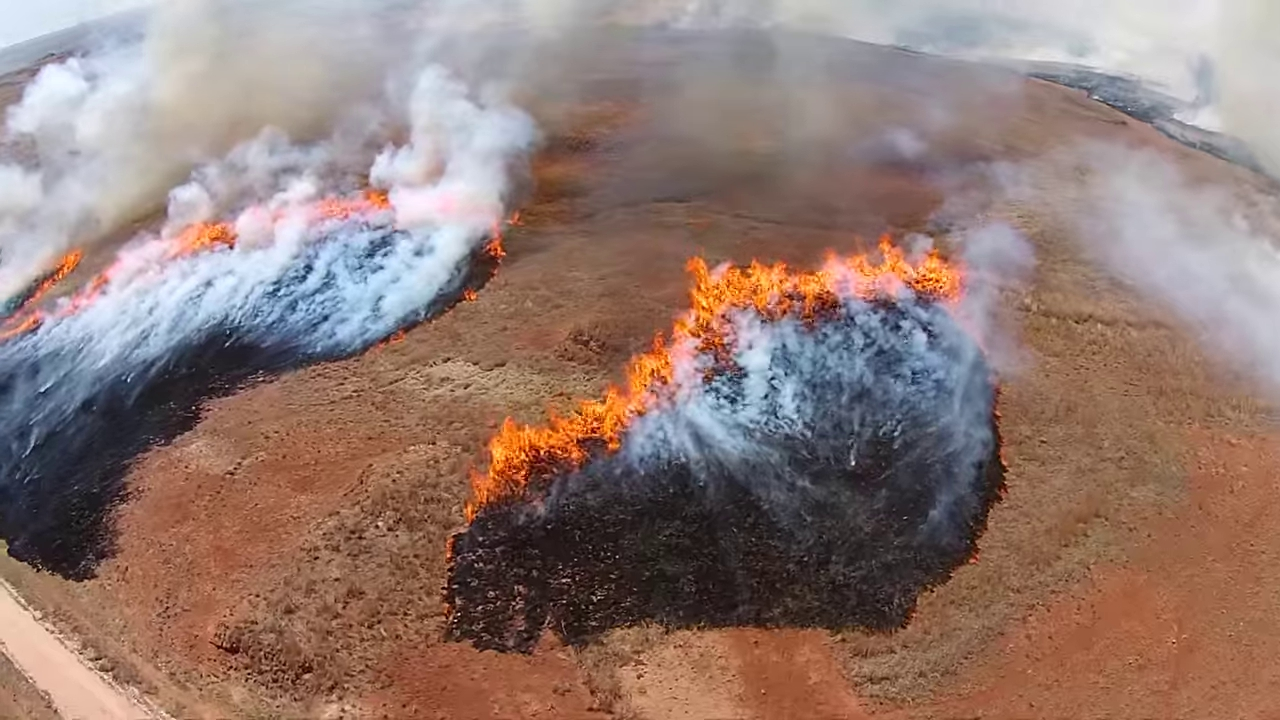forest_fire: (465, 235, 961, 521), (19, 250, 82, 308), (305, 191, 390, 219), (172, 222, 235, 256), (481, 228, 504, 261)
